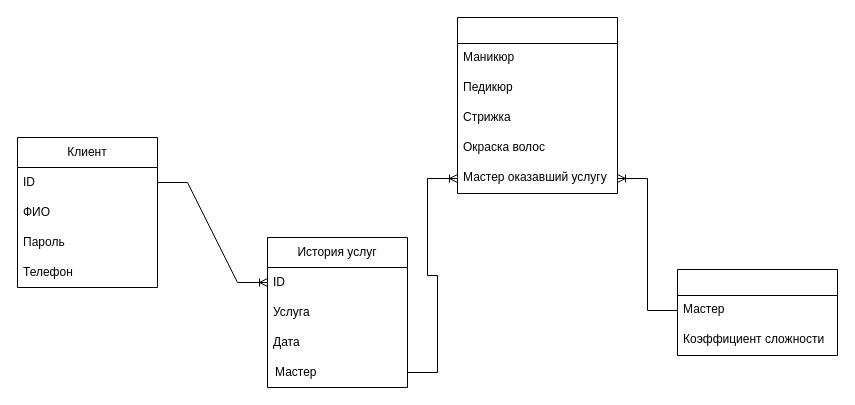
Image size: 855x405. Some labels were removed from this diagram. Here are the shapes that lost their labels. From the top down, the box of each, then its label:
(456, 16, 618, 194): Услуги
(676, 268, 838, 356): Зарплата
